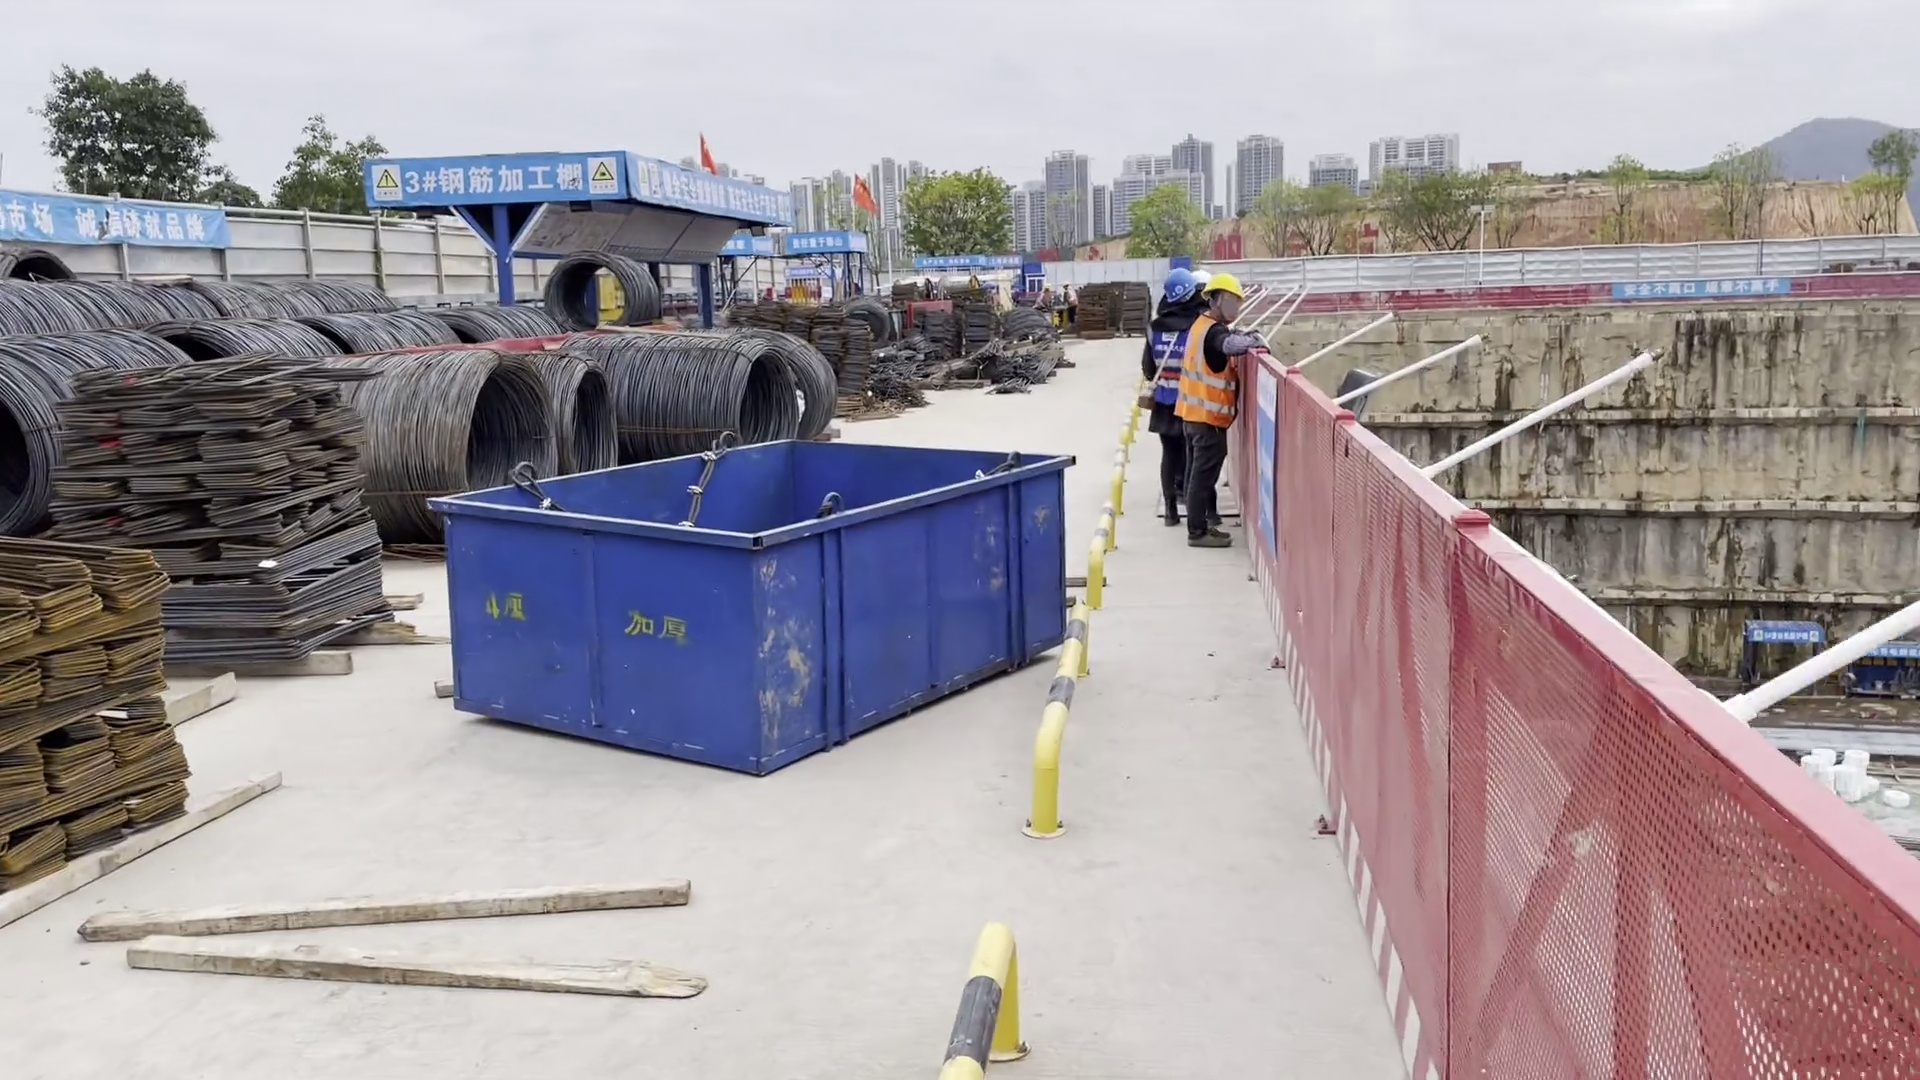fence: (1210, 304, 1910, 1080), (1265, 274, 1920, 305)
helmet: (1163, 268, 1196, 297), (1203, 276, 1244, 298), (1043, 283, 1051, 289), (1061, 282, 1070, 288)
hopper: (422, 426, 1083, 783)
person: (1184, 275, 1251, 545), (1141, 265, 1204, 490), (1032, 283, 1052, 310), (1060, 282, 1079, 308)
slogan: (1584, 276, 1794, 301)
vest: (1178, 322, 1234, 426), (1144, 326, 1190, 405), (1064, 291, 1078, 307), (1032, 293, 1044, 309)
